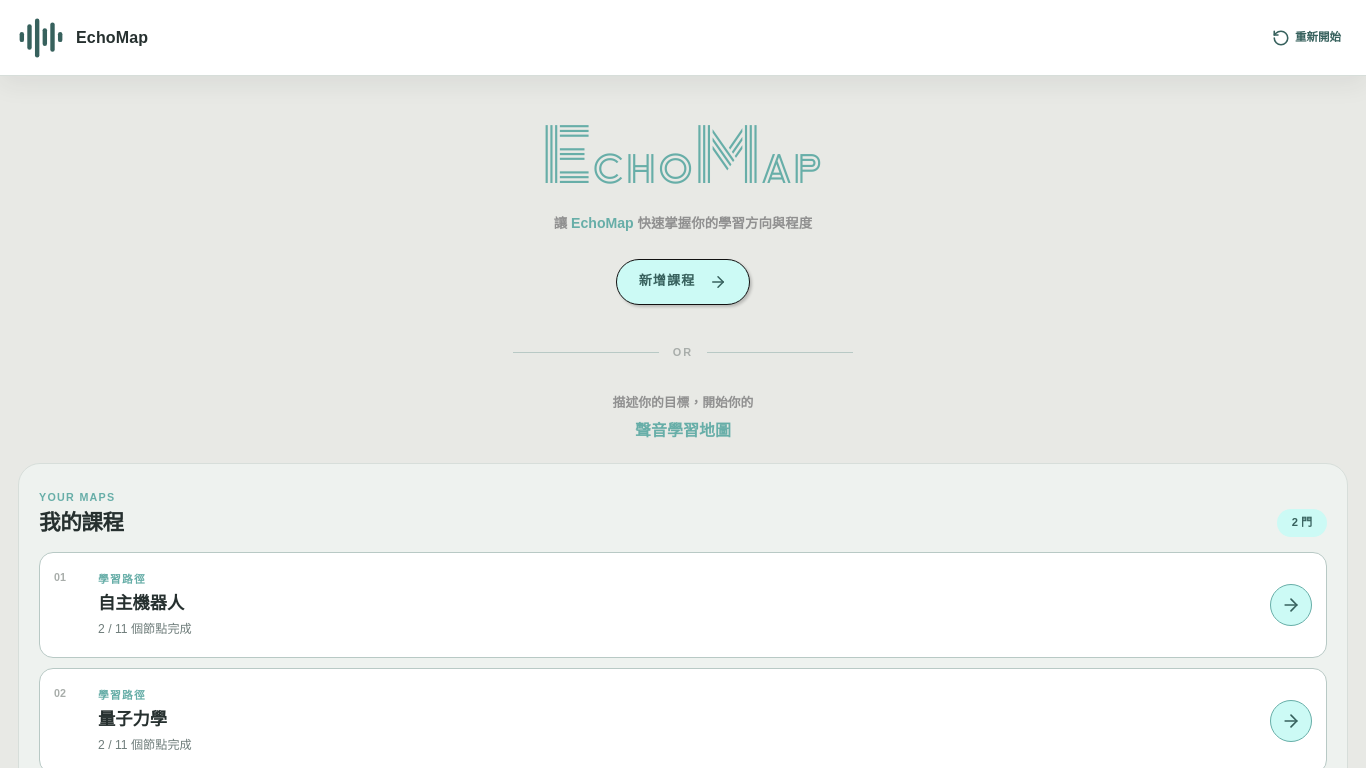
Test: LearningApp onboarding › renders multiple stored courses and opens the selected record
The width and height of the screenshot is (1366, 768).
Check: the heading "自主機器人" is shown, box [98,592,184,612]
Check: the heading "量子力學" is shown, box [98,708,167,728]
Click the button named "開啟量子力學".
click(1291, 721)  # box [1270,700,1312,742]
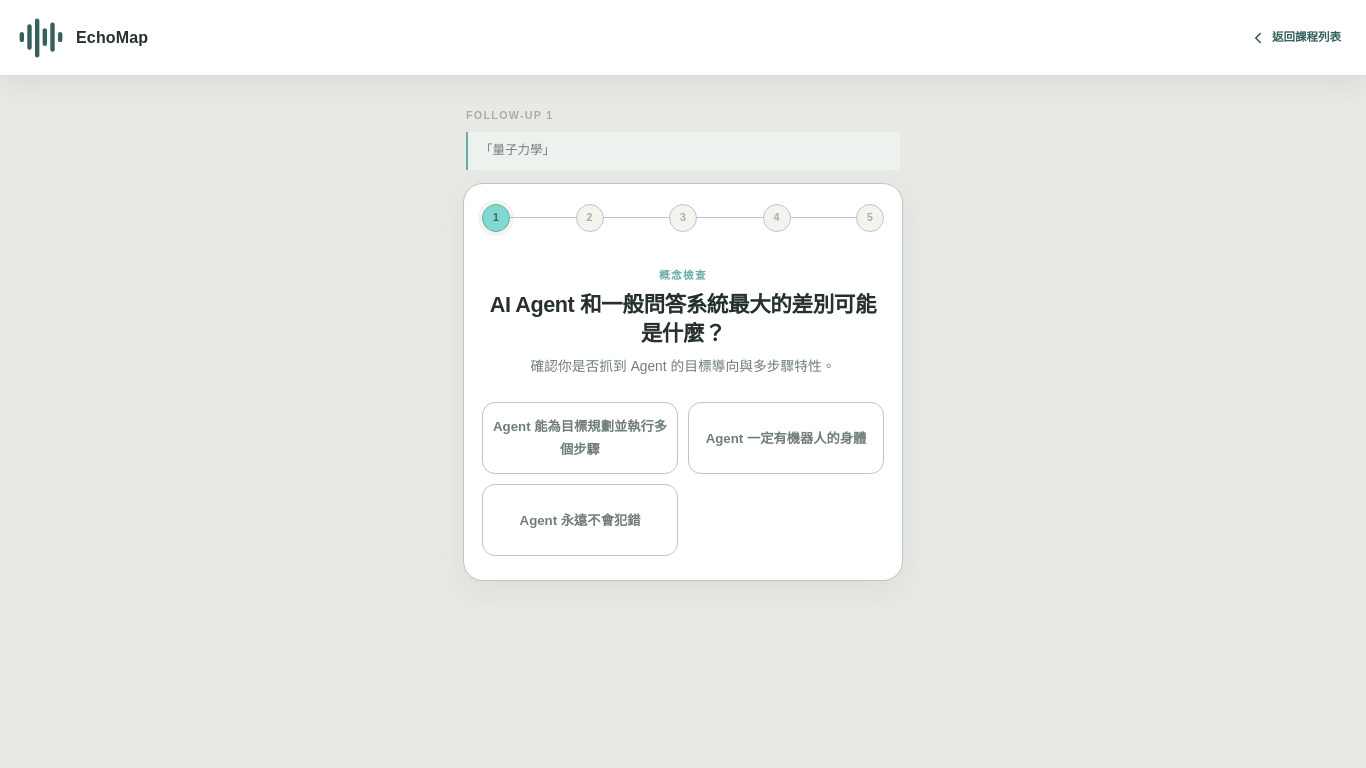
Check: the text "概念檢查" is shown, box [659,269,707,281]
